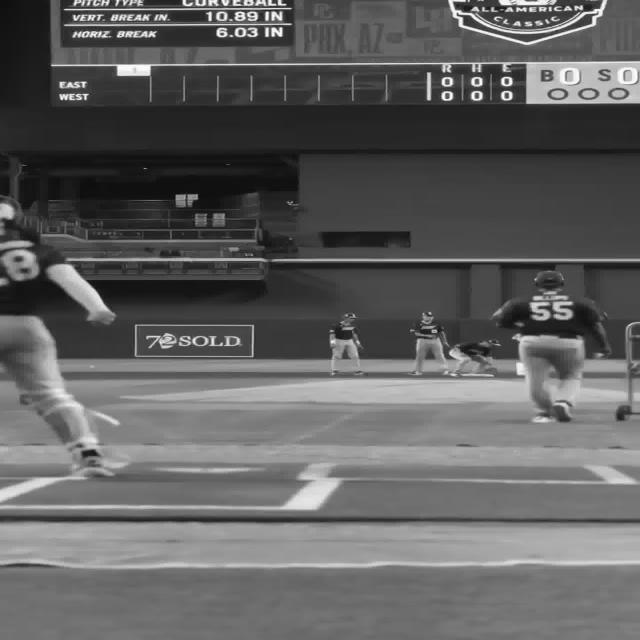base: (459, 374, 500, 378)
shoe: (72, 449, 114, 478), (551, 400, 572, 422), (530, 414, 554, 423), (406, 371, 422, 376), (352, 371, 367, 376), (450, 371, 461, 377), (441, 370, 451, 376), (330, 371, 338, 376)
